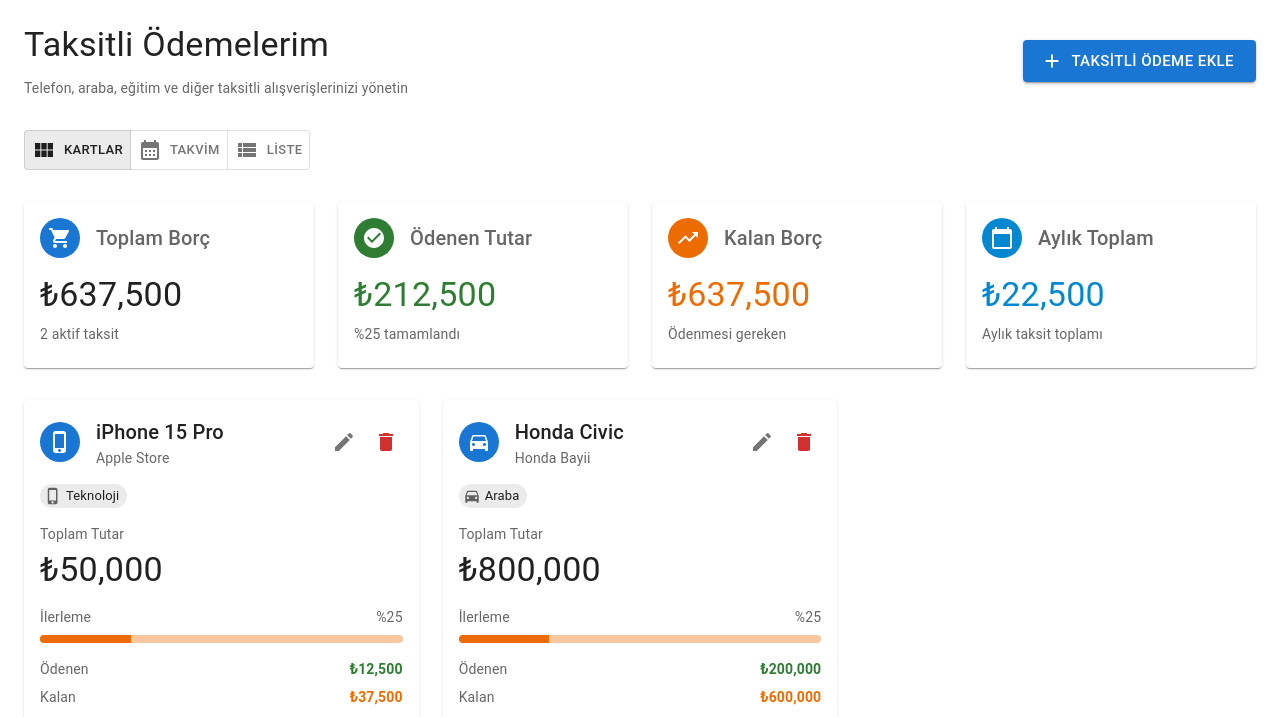
Test: InstallmentPaymentsPage › View Mode Switching › switches to calendar view when calendar button is clicked
Check: the heading "iPhone 15 Pro" is shown, box [96, 420, 224, 444]
Click the button "Takvim" at (179, 150), box [130, 130, 228, 170]
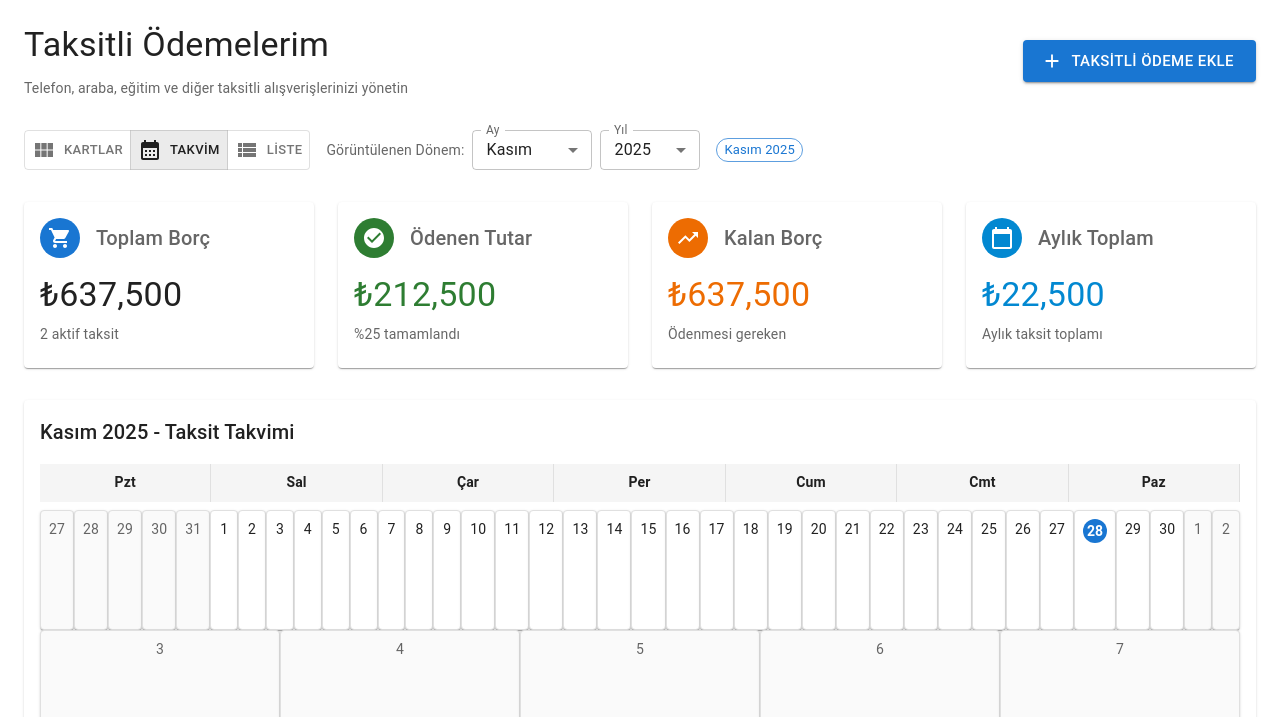
Check: the heading "Kasım 2025 - Taksit Takvimi" is shown, box [40, 416, 294, 448]
